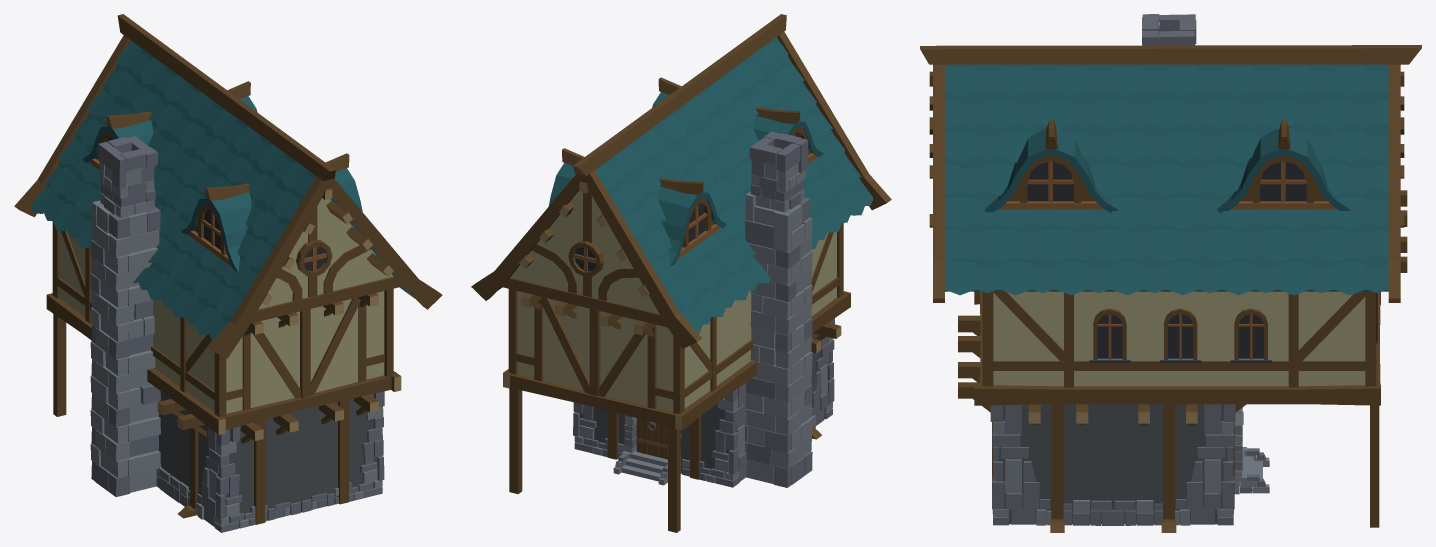
The model's file is quaternius-medieval-village-house-2.glb.
3 renders of one model, left to right at view 1: azimuth 30°, elevation 25°; view 2: azimuth 150°, elevation 25°; view 3: azimuth 270°, elevation 25°, orthographic. The views are drawn at different scales.
Parts seen in each view (by area): view 1: House_2; view 2: House_2; view 3: House_2.
Part boxes in pixels (x1,y1,x2,y2): House_2: [14, 14, 442, 532]; House_2: [471, 14, 891, 532]; House_2: [920, 14, 1421, 532].
Bounding box in the file's own units: 2.22 × 3.25 × 3.42.
Materials: 1 (1 with a texture image).
